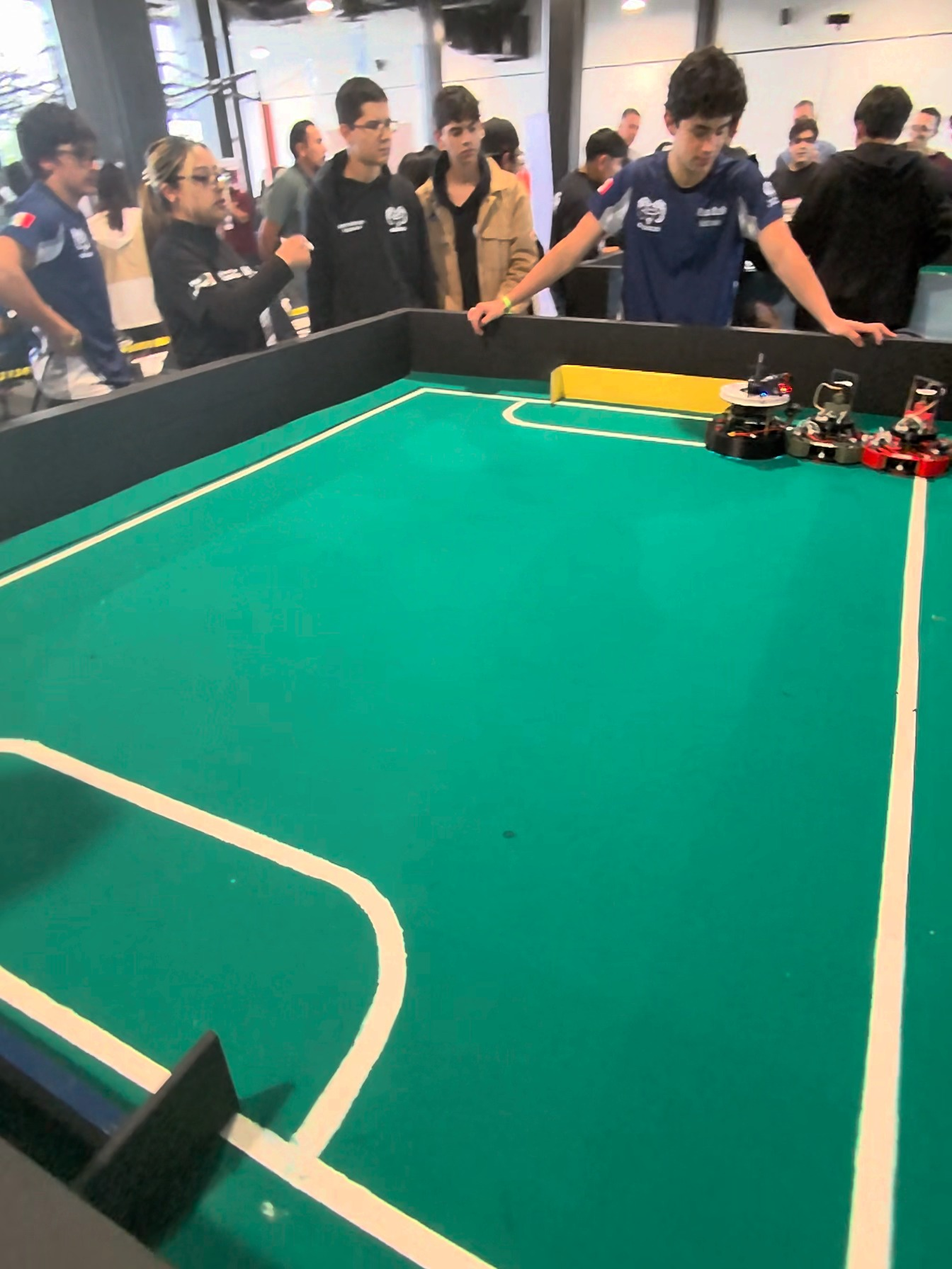Robot: (703, 347, 788, 470), (786, 362, 857, 484), (892, 369, 952, 483)
